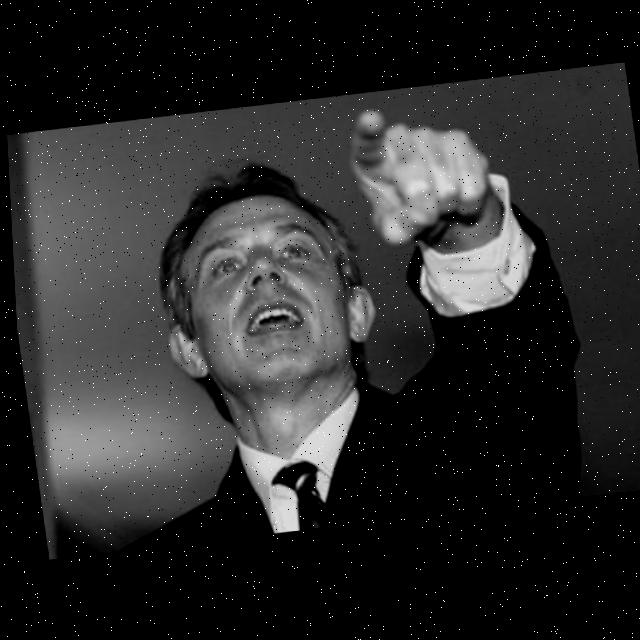face: (149, 168, 376, 399)
